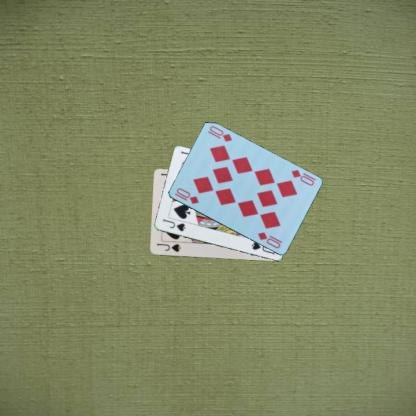10d: (172, 186, 200, 206), (288, 167, 315, 187)
Js: (160, 216, 187, 233), (154, 240, 182, 253)
